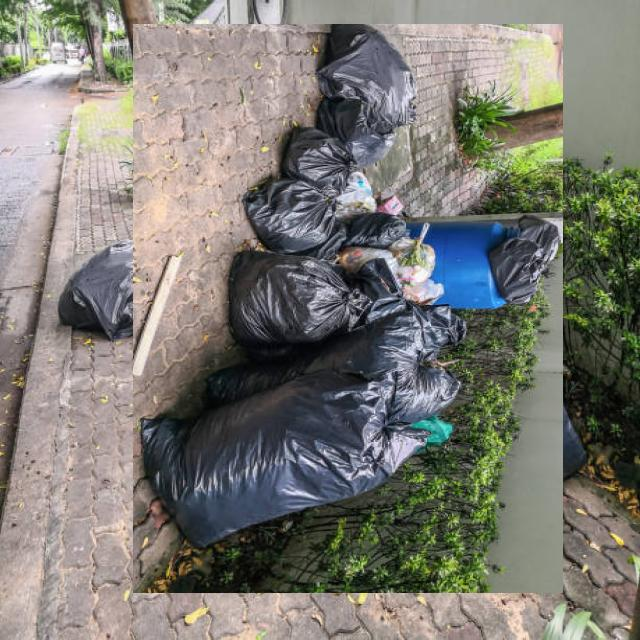garbage: (98, 59, 598, 558)
